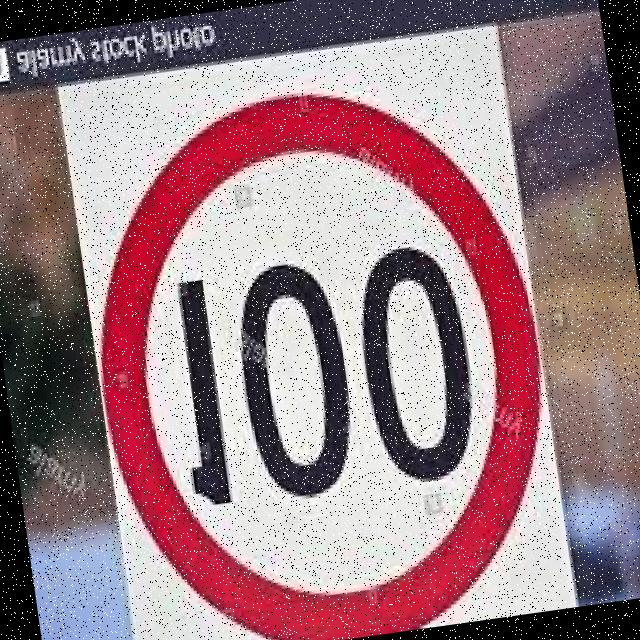speed_limit_100: (69, 71, 576, 640)
